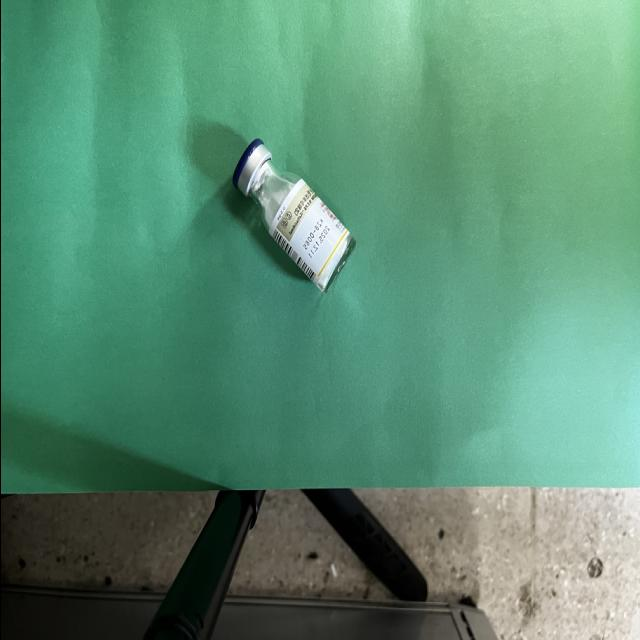Vials: (230, 138, 356, 293)
